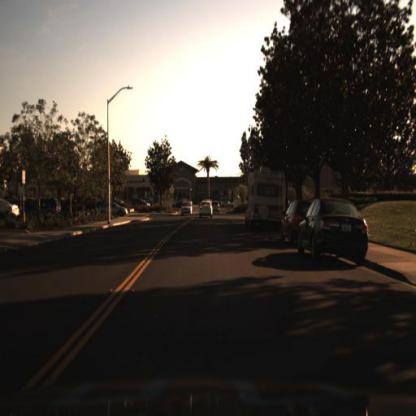car: (295, 196, 375, 260), (22, 193, 64, 225), (28, 194, 66, 219), (99, 199, 130, 220), (127, 197, 152, 212), (178, 200, 196, 218), (199, 199, 213, 219), (219, 198, 234, 211), (178, 203, 192, 216)
truck: (243, 169, 286, 234)
